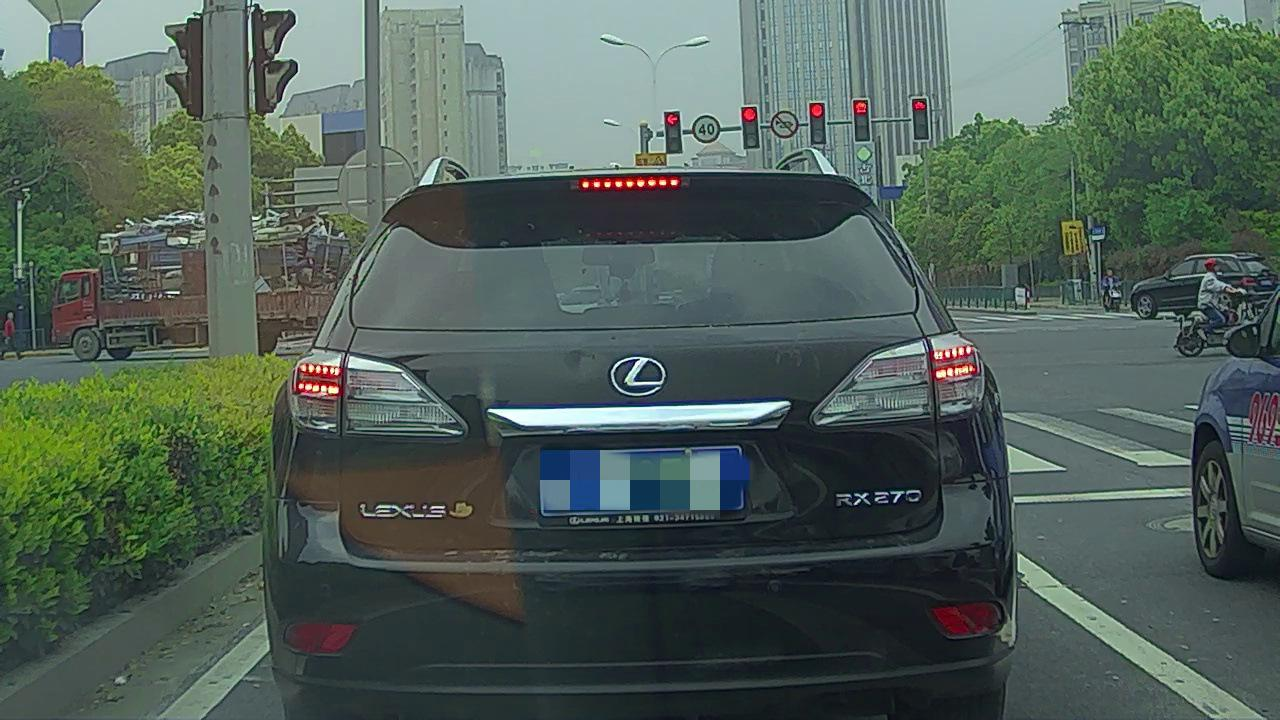traffic_light: (912, 97, 930, 141), (809, 102, 826, 145), (742, 107, 759, 148), (853, 100, 870, 141), (665, 111, 682, 150)
